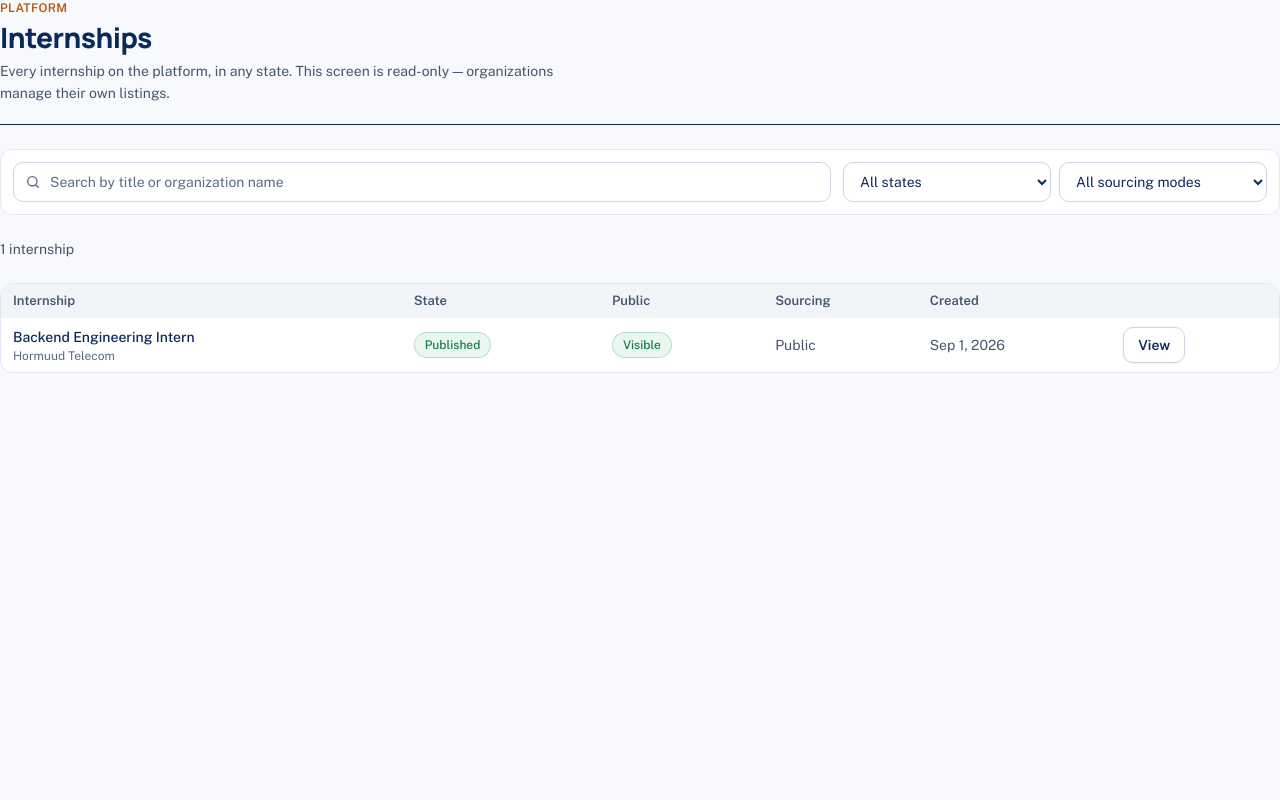
Test: AdminOpportunitiesPage › opens the full record without leaving the filtered table
The width and height of the screenshot is (1280, 800).
Step 1. Click the button "View" → (1154, 345), box [1123,327,1185,363]
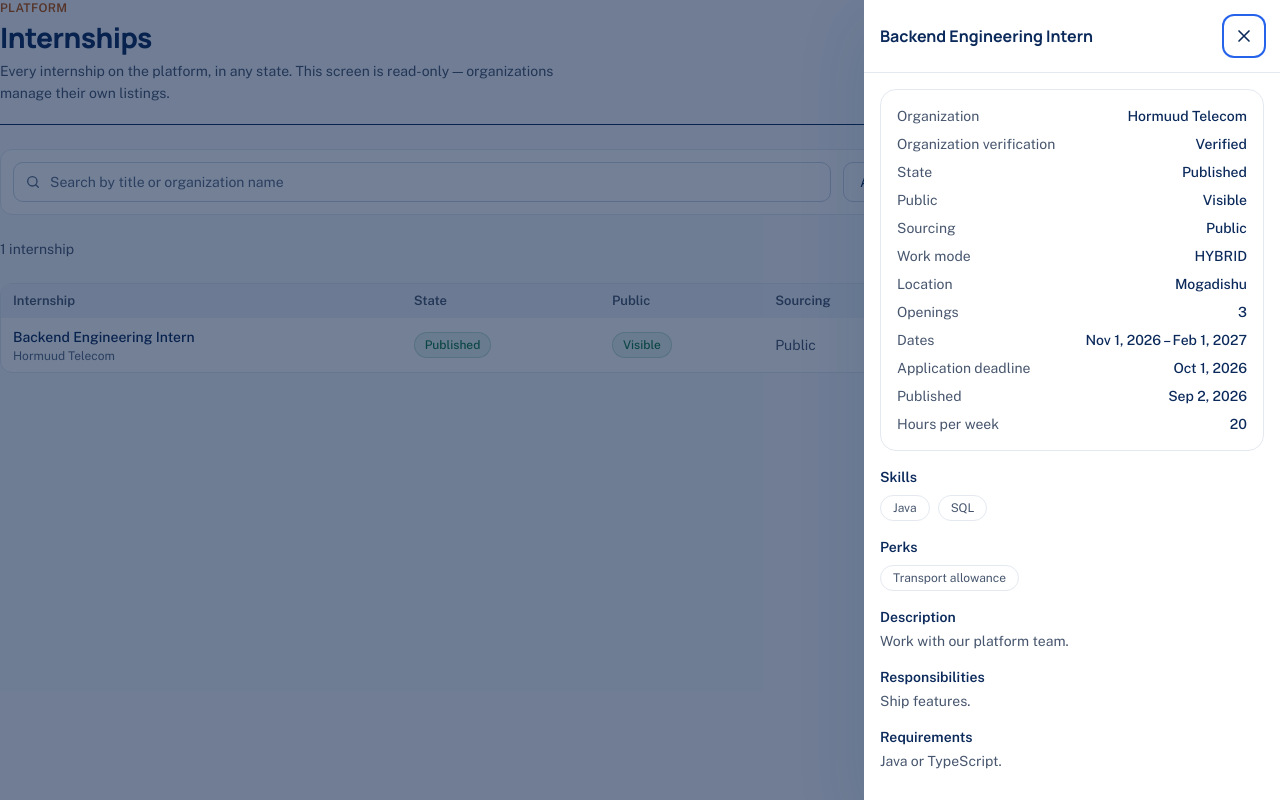
Expected: the list item "Java" is shown, [880,495,930,521]
Expected: the list item "Transport allowance" is shown, [880,565,1019,591]
Expected: the text "Work with our platform team." is shown, [880,633,1069,649]
